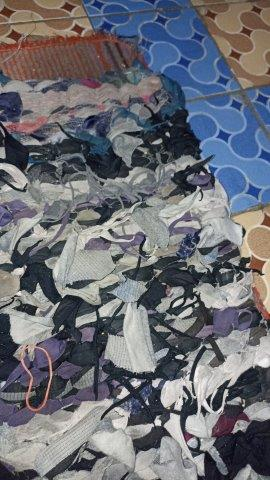karet: (20, 345, 53, 412)
